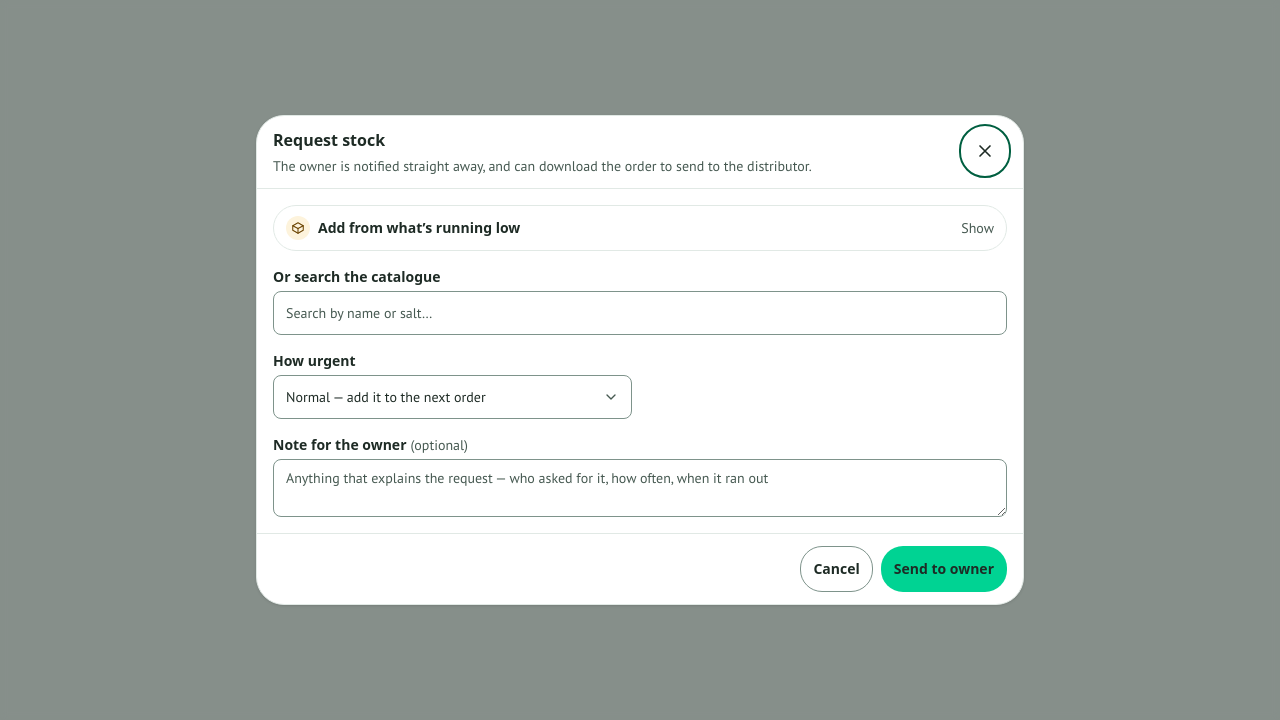
Scenario: adding from the low-stock list › shows how far below its reorder level each one is
The image size is (1280, 720).
Click the button "Add from what’s running low Show".
click(419, 228)  # box [274,206,1006,250]
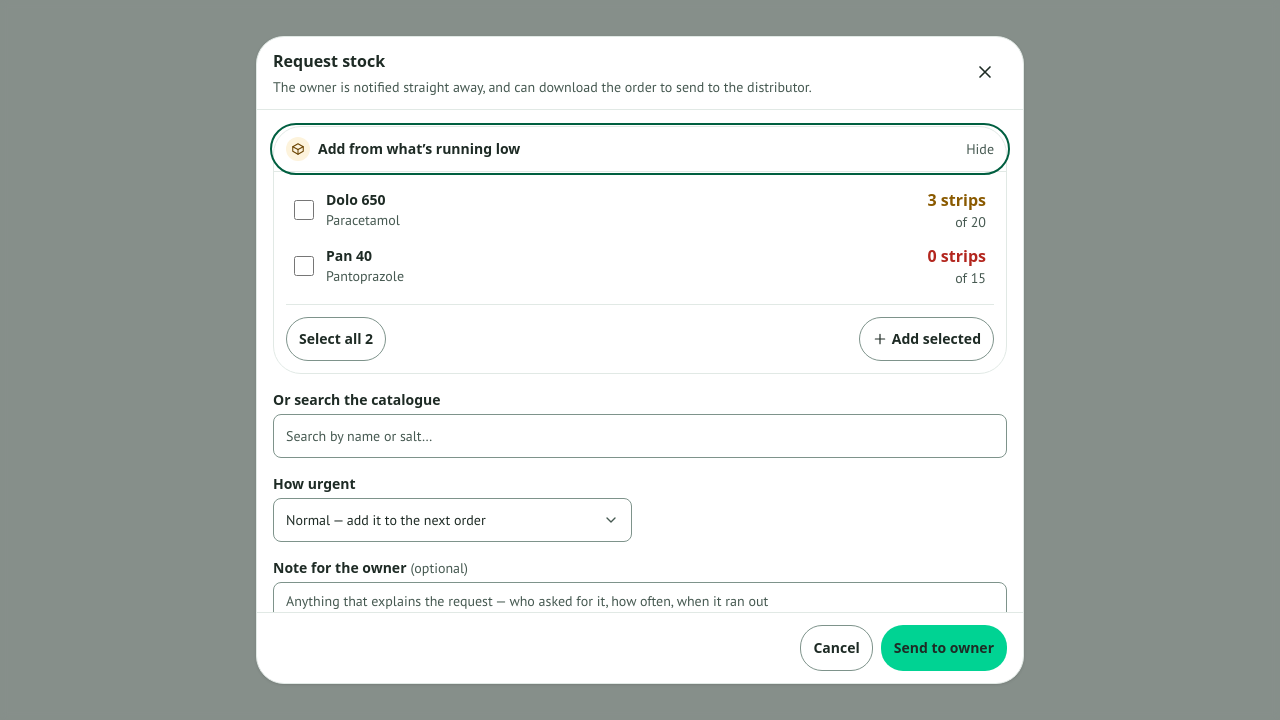
Expected: the text "of 20" is shown, [955,213,986,231]
